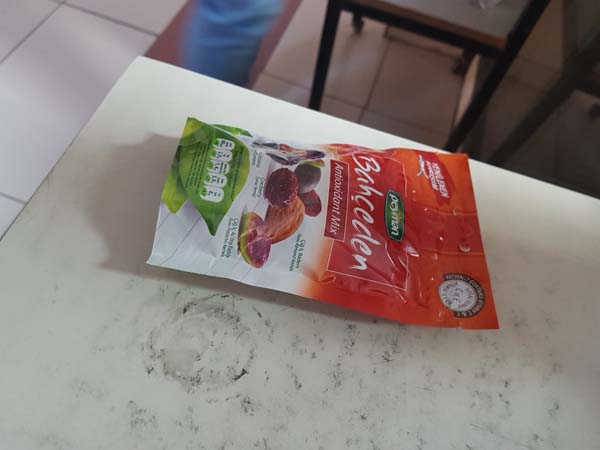bahcedenantioxidan: (149, 101, 526, 348)
